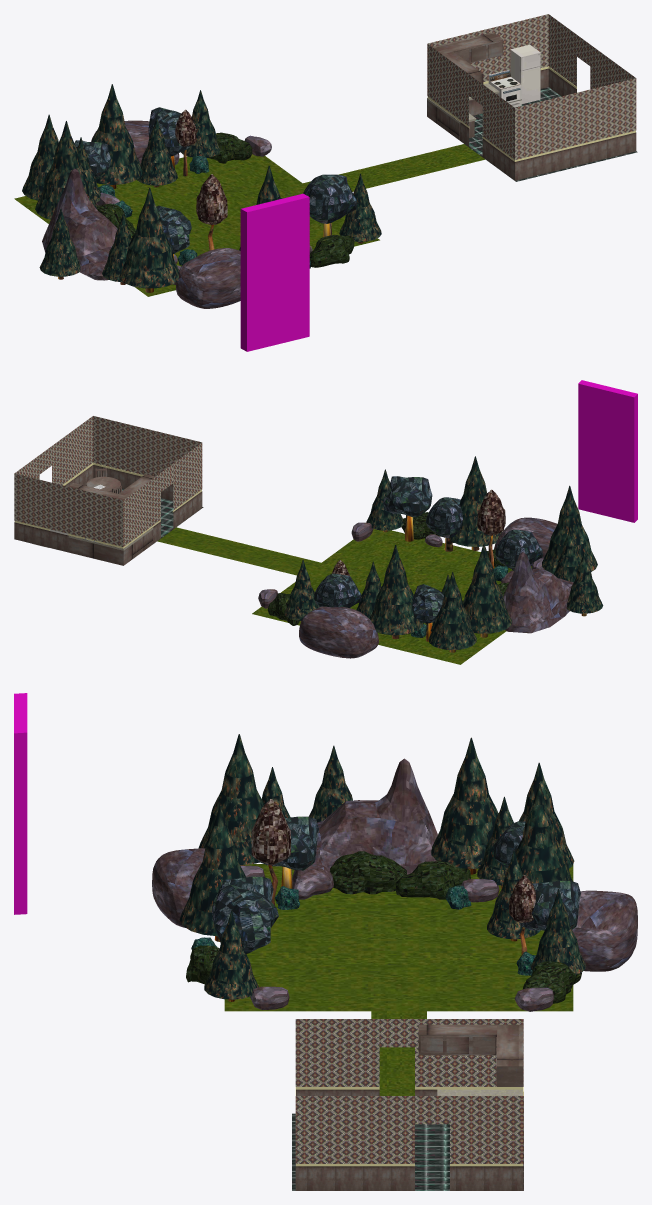
File: environ-01-yard-kitchen-test4.glb
The picture shows the model from 3 angles, top to bottom: view 1: azimuth 30°, elevation 25°; view 2: azimuth 150°, elevation 25°; view 3: azimuth 270°, elevation 25°; orthographic projection. The views are drawn at different scales.
Visible parts, largest first — view 1: w-house-interior-upper, _doortemplate, ground, wall.rock_lg, wall.pinetree04, wall.rocklg02.001, Plane, wall.pinetree.001, wall-house-interior-lower-east.001, wall.pinetree, wall.tree03, cabinet (+23 smaller); view 2: w-house-interior-upper, ground, _doortemplate, wall.rock_lg, wall.rocklg02, Plane, wall.pinetree.001, wall.pinetree, wall.pinetree.002, wall.pinetree04, wall.pinetree04.001, wall.tree03 (+21 smaller); view 3: ground, w-house-interior-upper, wall.rock_lg, wall.pinetree, wall.rocklg02, cabinet, wall.pinetree04, wall.pinetree04.001, _doortemplate, wall.pinetree.001, wall-house-interior-lower-northR.001, wall.tree03 (+26 smaller).
Part boxes in pixels (x1,y1,x2,y2): w-house-interior-upper: (427, 14, 636, 159); _doortemplate: (240, 193, 309, 351); ground: (14, 154, 379, 296); wall.rock_lg: (42, 168, 117, 280); wall.pinetree04: (119, 187, 178, 288); wall.rocklg02.001: (176, 248, 240, 308); Plane: (301, 144, 484, 191); wall.pinetree.001: (91, 84, 142, 184); wall-house-interior-lower-east.001: (515, 132, 636, 180); wall.pinetree: (35, 121, 96, 219); wall.tree03: (303, 174, 357, 223); cabinet: (432, 32, 503, 84); w-house-interior-upper: (14, 416, 202, 546); ground: (252, 529, 531, 664); _doortemplate: (578, 380, 637, 522); wall.rock_lg: (503, 552, 573, 633); wall.rocklg02: (299, 606, 378, 658); Plane: (157, 527, 322, 575); wall.pinetree.001: (369, 544, 423, 635); wall.pinetree: (463, 543, 511, 633); wall.pinetree.002: (428, 571, 476, 650); wall.pinetree04: (542, 485, 597, 573); wall.pinetree04.001: (448, 456, 501, 546); wall.tree03: (383, 476, 432, 517); ground: (224, 864, 573, 1011); w-house-interior-upper: (295, 1019, 523, 1163); wall.rock_lg: (292, 758, 437, 874); wall.pinetree: (431, 737, 498, 868); wall.rocklg02: (572, 890, 637, 971); cabinet: (418, 1024, 523, 1086); wall.pinetree04: (198, 734, 264, 864); wall.pinetree04.001: (179, 805, 245, 936); _doortemplate: (14, 693, 27, 914); wall.pinetree.001: (515, 783, 572, 883); wall-house-interior-lower-northR.001: (295, 1166, 414, 1190); wall.tree03: (213, 884, 278, 953).
Size of what is drawn, in the model's own units: 70.19 by 17.18 by 50.4.
19 materials, 18 textured.
